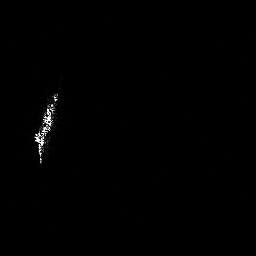ship: (34, 91, 60, 166)
